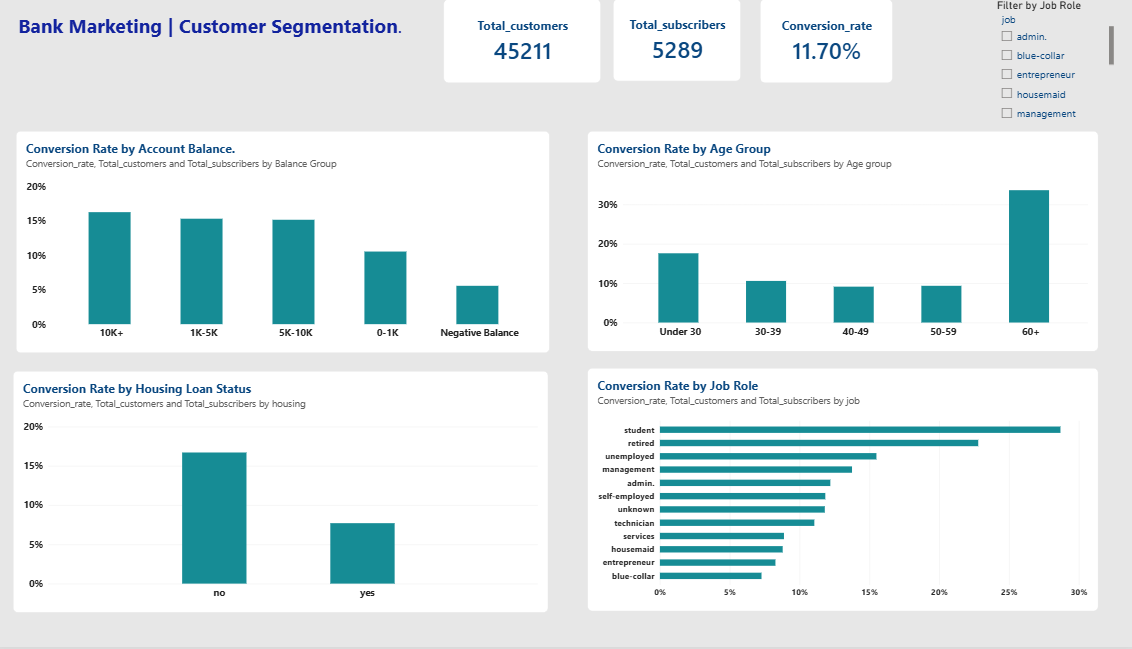

Layout of this report page (visuals, bound fields, positions):
{"tool":"powerbi","page":{"name":"Customer Segmentation","canvas":[1920,1080],"ordinal":1},"visuals":[{"type":"clusteredColumnChart","title":"Conversion Rate by  Age Group","fields":{"Category":["Age group table.Age group"],"Y":["bank_marketing.Conversion_rate"]},"box":[997.3,218.9,851.4,367.6],"z":0},{"type":"clusteredColumnChart","title":"Conversion Rate by Account Balance.","fields":{"Category":["bank_marketing.Balance Group"],"Y":["bank_marketing.Conversion_rate"]},"box":[45.9,218.9,889.2,370.3],"z":1},{"type":"clusteredColumnChart","title":"Conversion Rate by Housing Loan Status","fields":{"Category":["bank_marketing.housing"],"Y":["bank_marketing.Conversion_rate"]},"box":[40.5,618.9,891.9,402.7],"z":2},{"type":"clusteredBarChart","title":"Conversion Rate by Job Role","fields":{"Category":["bank_marketing.job"],"Y":["bank_marketing.Conversion_rate"]},"box":[997.3,616.2,851.4,405.4],"z":3},{"type":"slicer","title":"Filter by Job Role","fields":{"Values":["bank_marketing.job"]},"box":[1681.1,0,194.6,202.7],"z":4},{"type":"cardVisual","fields":{"Data":["bank_marketing.Total_customers"]},"box":[756.8,0,262.2,140.5],"z":5},{"type":"cardVisual","fields":{"Data":["bank_marketing.Total_subscribers"]},"box":[1040.5,0,213.5,137.8],"z":6},{"type":"cardVisual","fields":{"Data":["bank_marketing.Conversion_rate"]},"box":[1283.8,0,221.6,140.5],"z":7},{"type":"textbox","box":[40,22.5,947.5,55],"z":9}]}

Visuals, with their boxes in screenshot pixels (x1, y1, x2, y2), scaled from the page's 1920x1080 canvas onto the 1132x649 screenshot:
"Conversion Rate by  Age Group" clusteredColumnChart: left=588, top=132, right=1090, bottom=352
"Conversion Rate by Account Balance." clusteredColumnChart: left=27, top=132, right=551, bottom=354
"Conversion Rate by Housing Loan Status" clusteredColumnChart: left=24, top=372, right=550, bottom=614
"Conversion Rate by Job Role" clusteredBarChart: left=588, top=370, right=1090, bottom=614
"Filter by Job Role" slicer: left=991, top=0, right=1106, bottom=122
cardVisual - bank_marketing.Total_customers: left=446, top=0, right=601, bottom=84
cardVisual - bank_marketing.Total_subscribers: left=613, top=0, right=739, bottom=83
cardVisual - bank_marketing.Conversion_rate: left=757, top=0, right=888, bottom=84
textbox: left=24, top=14, right=582, bottom=47
